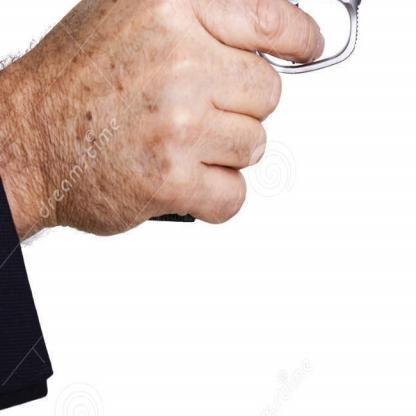gun: (100, 0, 416, 228)
